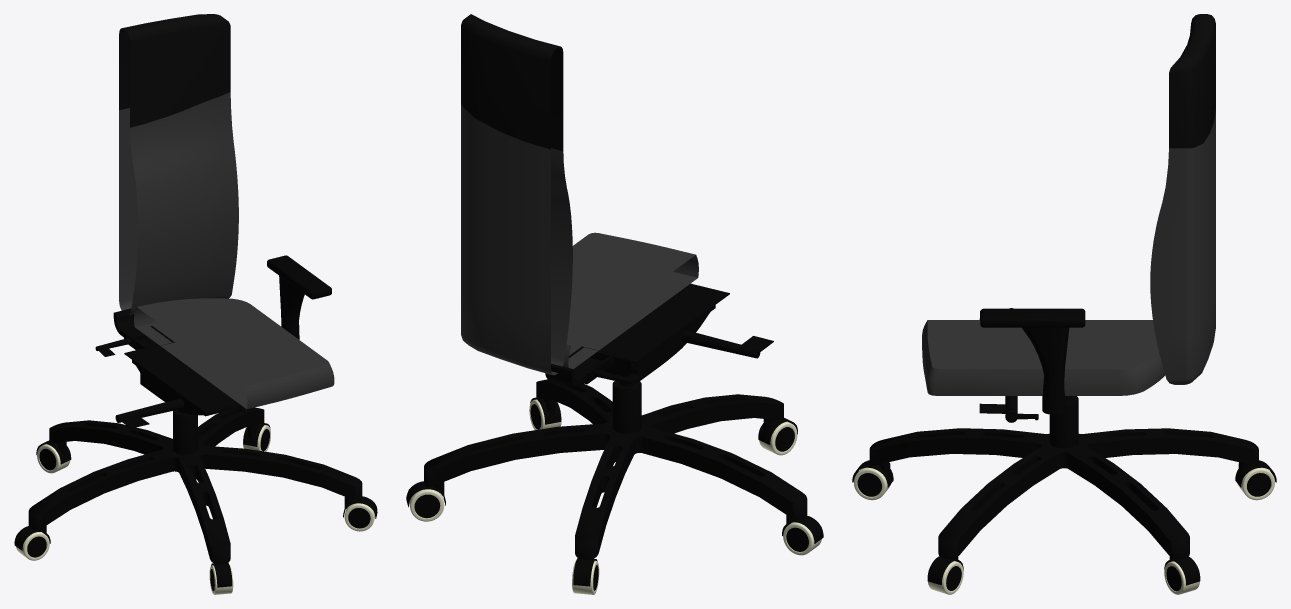
Rendered from chair123.glb.
3 renders of one model, left to right at view 1: azimuth 30°, elevation 25°; view 2: azimuth 150°, elevation 25°; view 3: azimuth 270°, elevation 25°, orthographic. The views are drawn at different scales.
Visible parts, largest first — view 1: Plane.001, Cylinder.001, Plane.002, Cube, Cylinder.010, Cylinder.006, Cylinder, Cylinder.003, Cylinder.005, Cylinder.007, Cylinder.002, Cylinder.004 (+1 smaller); view 2: Plane.001, Cylinder.001, Plane.002, Cube, Cylinder.006, Cylinder, Cylinder.004, Cylinder.007, Cylinder.002, Cylinder.005, Cylinder.003, Cube.001; view 3: Plane.001, Cylinder.001, Plane.002, Cylinder.010, Cylinder.006, Cylinder.002, Cylinder.005, Cylinder.004, Cylinder.003, Cylinder.007.
Boxes of the visible parts, x1,y1,x2,y2 form: Plane.001: (119, 14, 238, 314); Cylinder.001: (28, 407, 362, 564); Plane.002: (134, 298, 334, 409); Cube: (124, 326, 242, 416); Cylinder.010: (267, 255, 331, 339); Cylinder.006: (173, 410, 197, 454); Cylinder: (14, 525, 50, 560); Cylinder.003: (343, 496, 377, 531); Cylinder.005: (36, 440, 71, 473); Cylinder.007: (115, 398, 183, 428); Cylinder.002: (209, 563, 233, 594); Cylinder.004: (243, 423, 270, 451); Plane.001: (461, 14, 572, 375); Cylinder.001: (424, 379, 807, 559); Plane.002: (562, 232, 698, 368); Cube: (568, 283, 729, 384); Cylinder.006: (612, 381, 641, 433); Cylinder: (782, 515, 823, 555); Cylinder.004: (406, 481, 445, 521); Cylinder.007: (681, 330, 773, 358); Cylinder.002: (758, 418, 797, 455); Cylinder.005: (572, 558, 599, 594); Cylinder.003: (529, 397, 561, 430); Cube.001: (545, 363, 588, 386); Plane.001: (1150, 14, 1215, 384); Cylinder.001: (869, 428, 1258, 559); Plane.002: (922, 320, 1165, 395); Cylinder.010: (980, 308, 1085, 414); Cylinder.006: (1049, 396, 1078, 448); Cylinder.002: (852, 460, 893, 500); Cylinder.005: (1235, 460, 1276, 500); Cylinder.004: (1164, 556, 1200, 594); Cylinder.003: (927, 556, 963, 594); Cylinder.007: (979, 308, 1038, 422).
Size of the model in its own units: 1.87 by 2.6 by 1.96.
